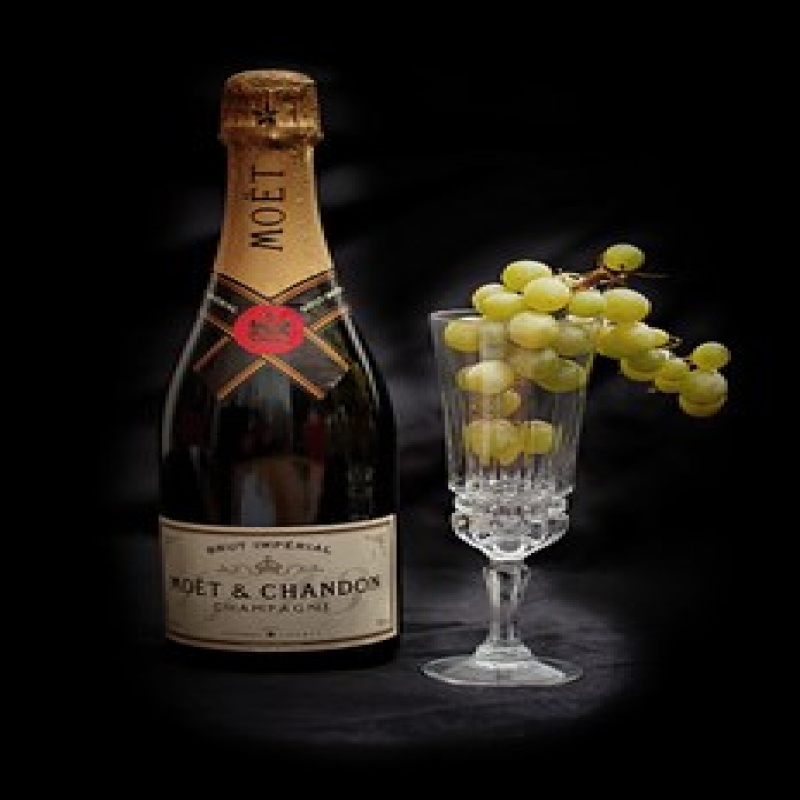wine: (147, 70, 421, 648)
